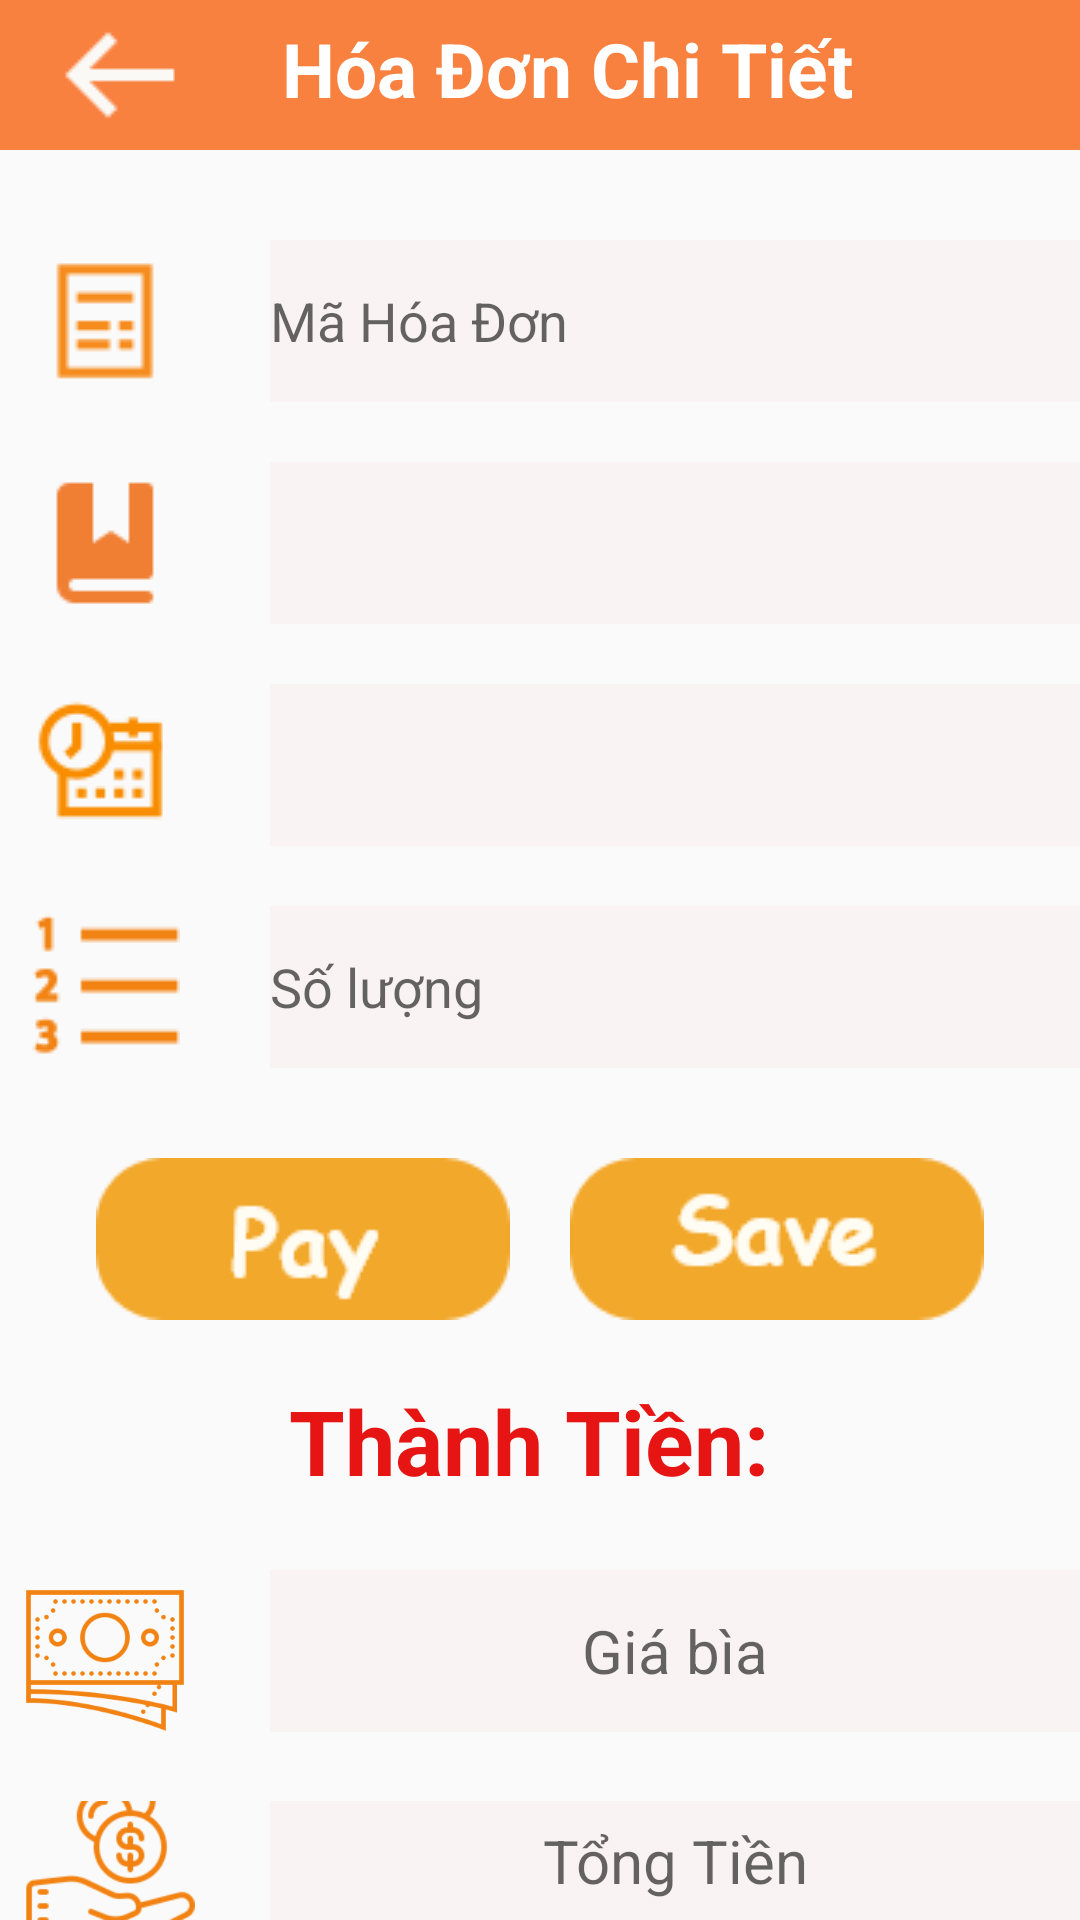

Point at icon controls on the screen. Image size 1080×1920, points as [x,y].
back: [120,75]
bill: [105,321]
book: [105,543]
date: [100,760]
gia: [105,1660]
number: [106,985]
